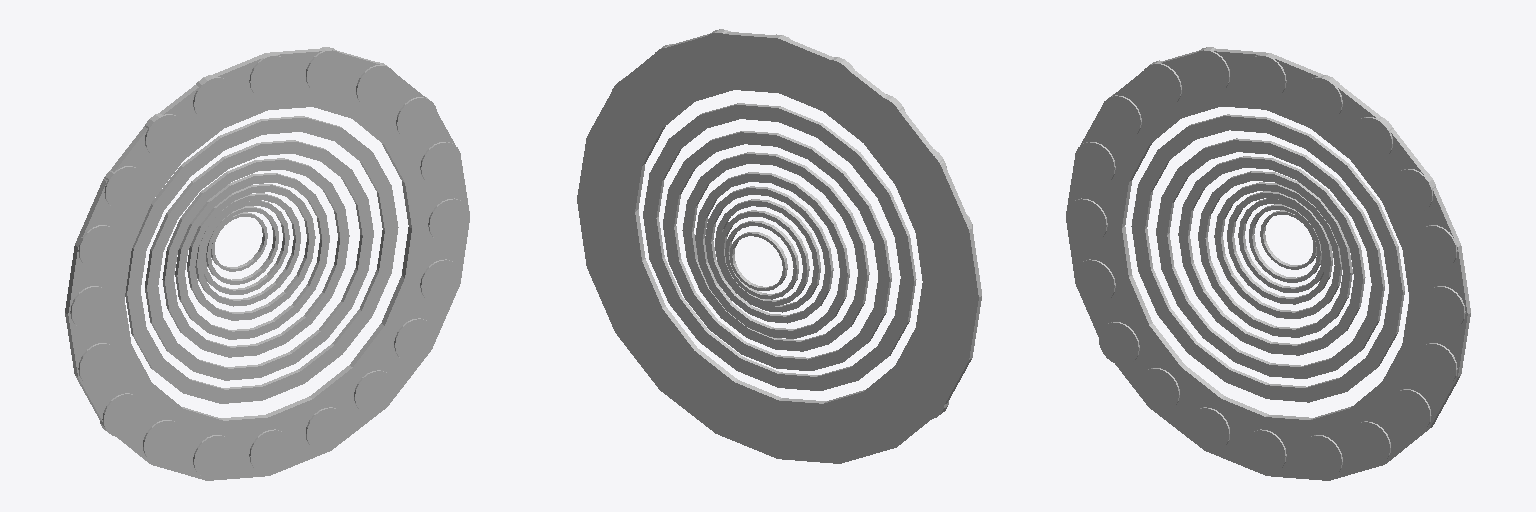
The picture shows the model from 3 angles: view 1: azimuth 30°, elevation 25°; view 2: azimuth 150°, elevation 25°; view 3: azimuth 330°, elevation 25°; orthographic projection.
Visible parts, largest first — view 1: obj_0; view 2: obj_0; view 3: obj_0.
Boxes of the visible parts, <box> form: obj_0: <box>65,47,469,480</box>; obj_0: <box>577,29,981,463</box>; obj_0: <box>1066,47,1470,480</box>.
Bounding box in the file's own units: 200 × 200 × 25.